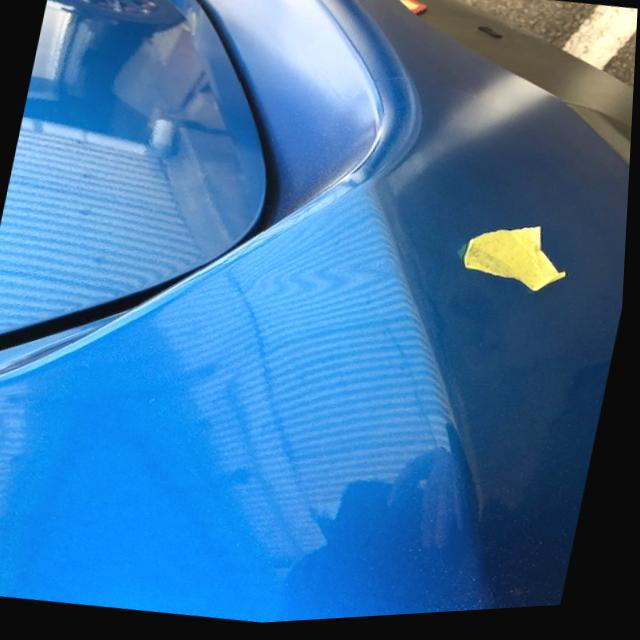Paint-fading: (452, 218, 573, 300)
